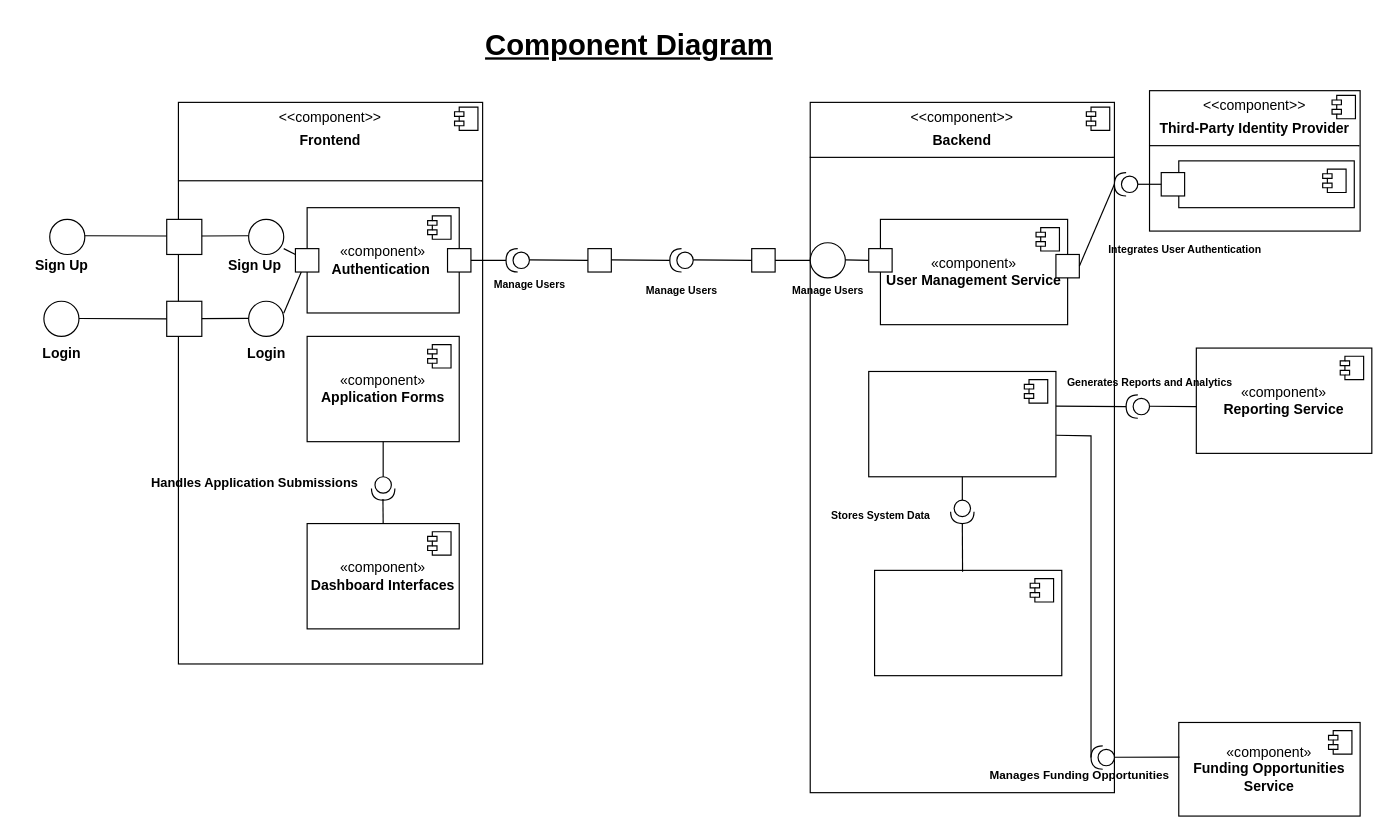
The diagram is 1392 pixels wide and 837 high, and some of its shapes have lost their labels. Here are the shapes that lost their labels. From the top down, the centre of each, then its label:
[1266,184]: <<component>> Third-Party Identity
[962,423]: «component» Server
[967,622]: «component» Database
